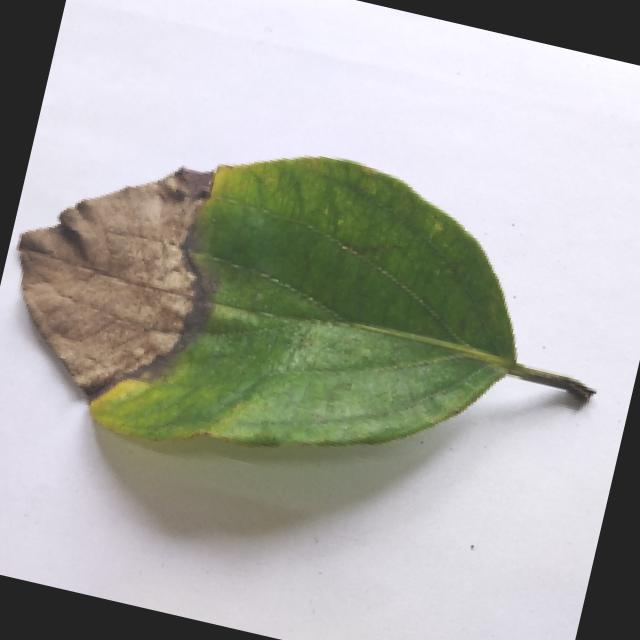footrot: (0, 92, 629, 585)
